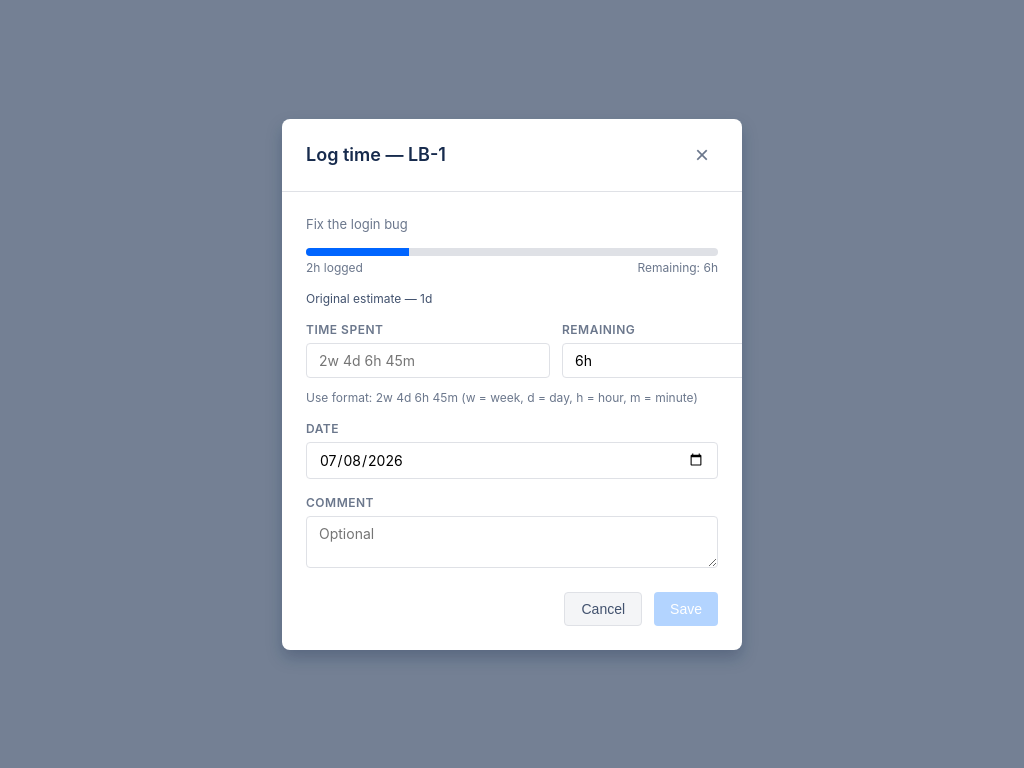
Test case: LogTimeModal › opens with today (local) date, prefilled remaining, and disabled submit until valid spent
Expected: the heading "Log time — LB-1" is shown, [306, 144, 446, 165]
Expected: the date field labelled "Date" holds "2026-07-08", [306, 442, 718, 478]
In the field labelled "Time spent": (428, 360) [306, 342, 550, 378], type "2h"
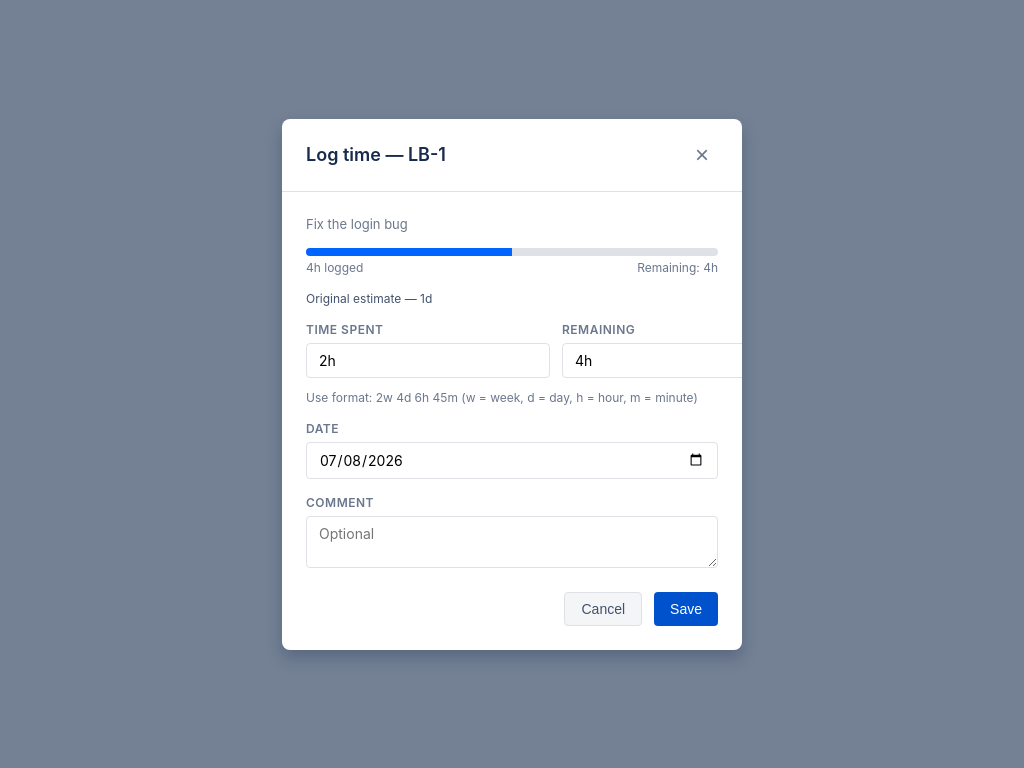
Now the button "Save" is enabled, box [654, 592, 718, 626]
